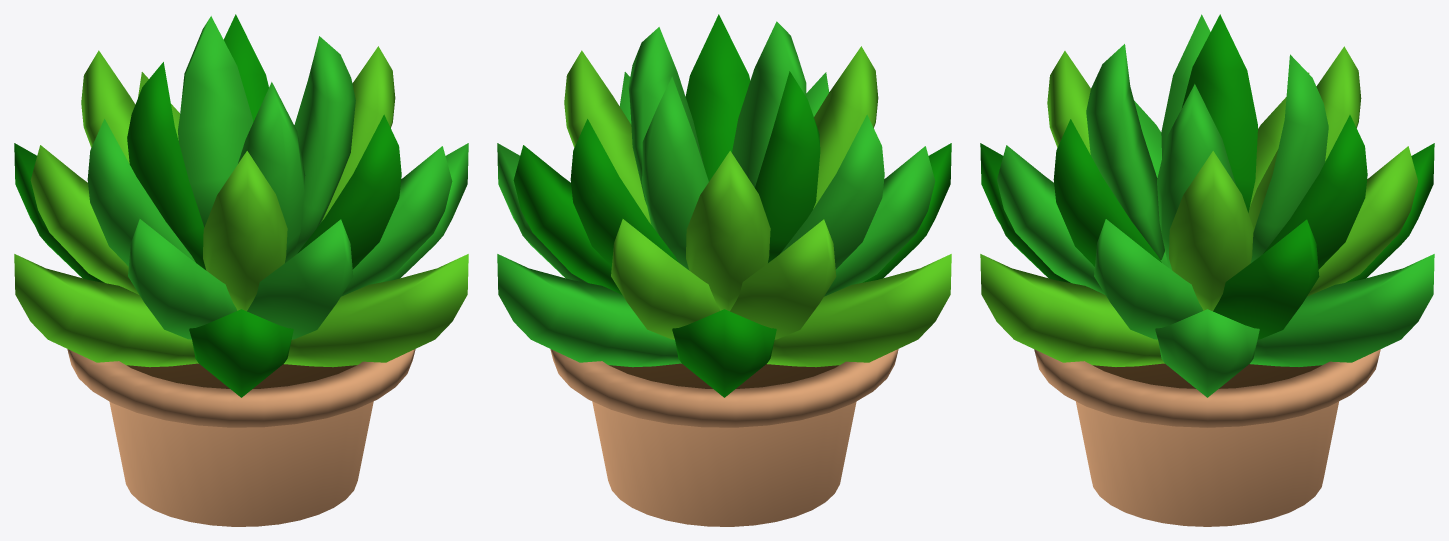
The model's file is Small_Plant_1.fbx.
The picture shows the model from 3 angles, left to right: view 1: azimuth 30°, elevation 25°; view 2: azimuth 150°, elevation 25°; view 3: azimuth 270°, elevation 25°; orthographic projection.
Visible parts, largest first — view 1: Small Plant 1; view 2: Small Plant 1; view 3: Small Plant 1.
Boxes of the visible parts, left/top/right/bottom form: Small Plant 1: left=14, top=14, right=468, bottom=526; Small Plant 1: left=497, top=14, right=951, bottom=526; Small Plant 1: left=980, top=14, right=1434, bottom=526.
Size of the model in its own units: 71.72 by 64.71 by 62.11.
